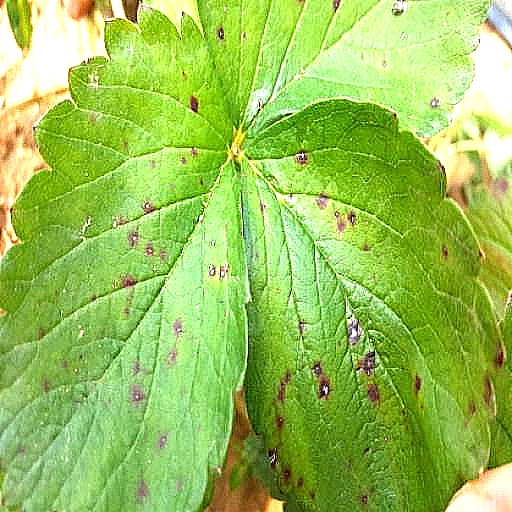Leaf Spot: (258, 3, 511, 511), (5, 95, 276, 511), (19, 0, 318, 153)
